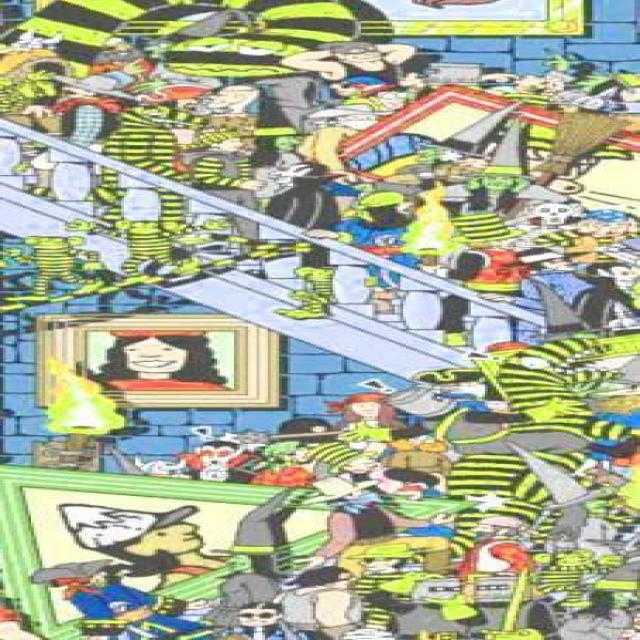waldo: (350, 83, 406, 110)
